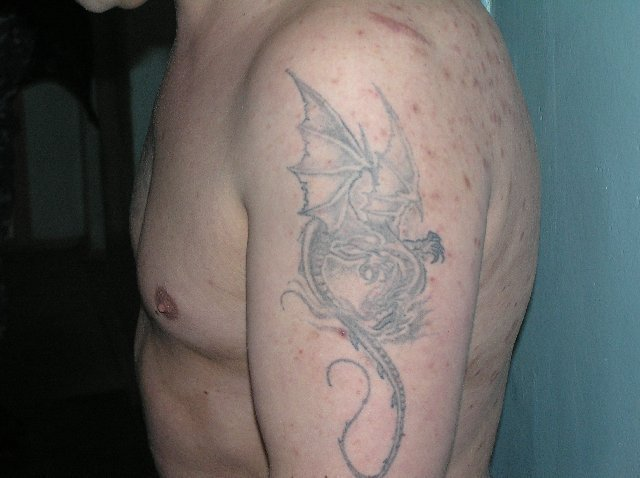tatu6_drakon: (273, 66, 447, 478)
